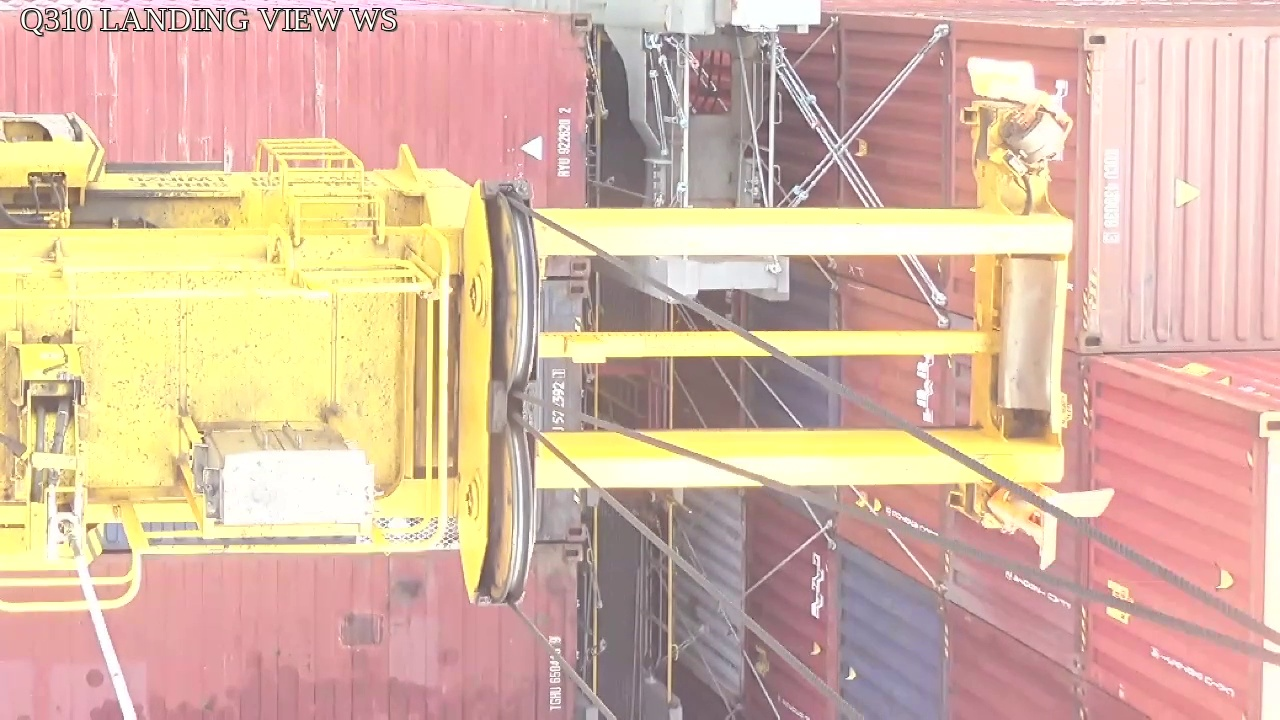right: (457, 180, 544, 612)
